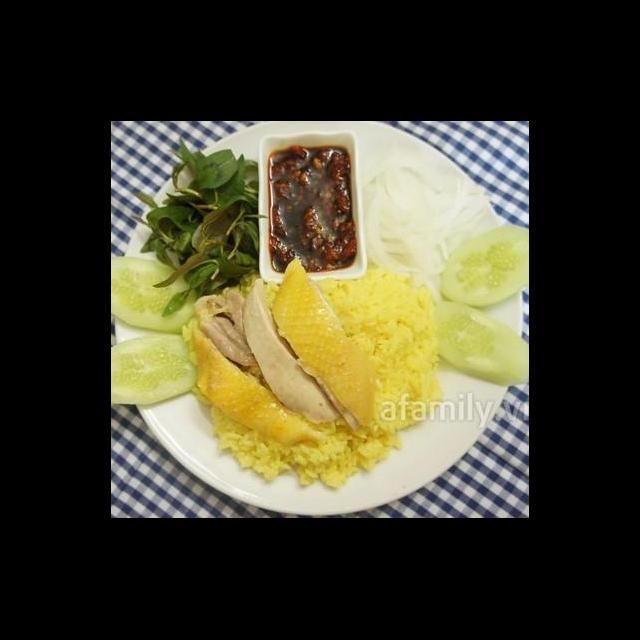com: (312, 262, 450, 440), (203, 404, 406, 494)
com ga: (123, 148, 529, 518)
rau ram: (127, 134, 270, 318)
thit ga: (268, 256, 377, 437), (178, 314, 325, 448), (242, 278, 342, 428), (190, 284, 264, 372)
